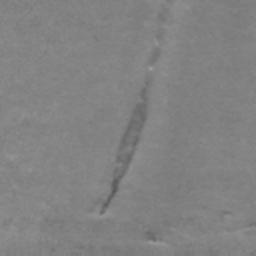Finishing roll printing: (97, 0, 177, 216)
